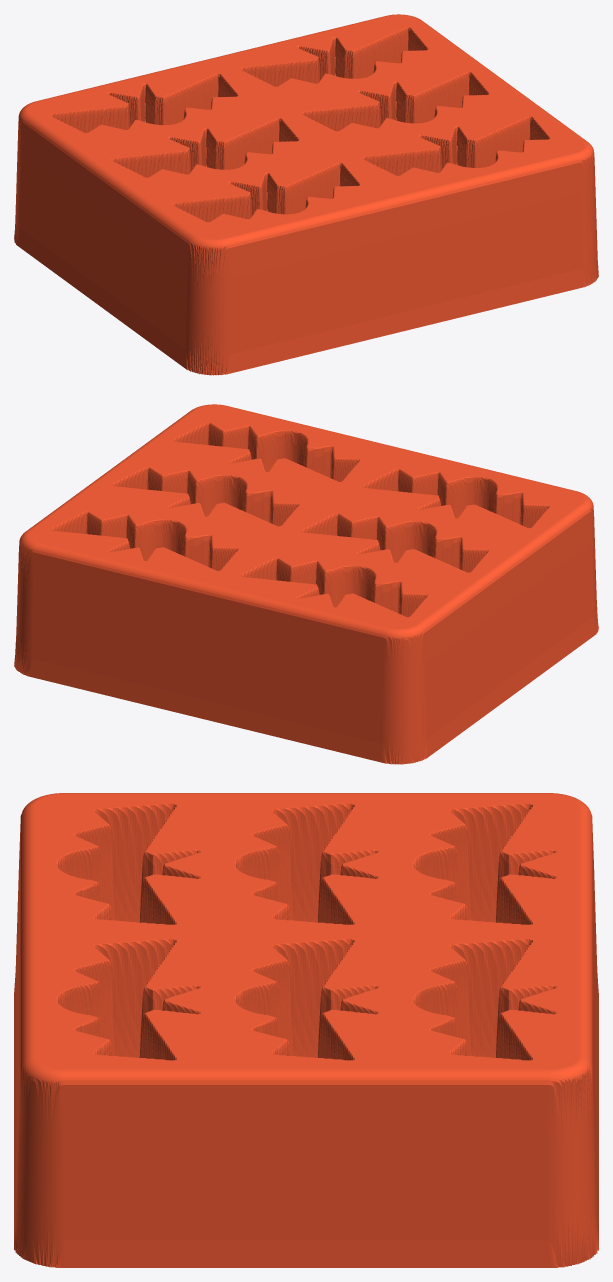
Rendered from mold.glb.
3 renders of one model, top to bottom at view 1: azimuth 30°, elevation 25°; view 2: azimuth 150°, elevation 25°; view 3: azimuth 270°, elevation 25°, orthographic. The views are drawn at different scales.
Visible parts, largest first — view 1: geometry_0; view 2: geometry_0; view 3: geometry_0.
Boxes of the visible parts, <box> form: geometry_0: <box>14,14,598,375</box>; geometry_0: <box>14,404,598,764</box>; geometry_0: <box>14,793,598,1267</box>.
Bounding box in the file's own units: 0.1246 × 0.0378 × 0.1054.
